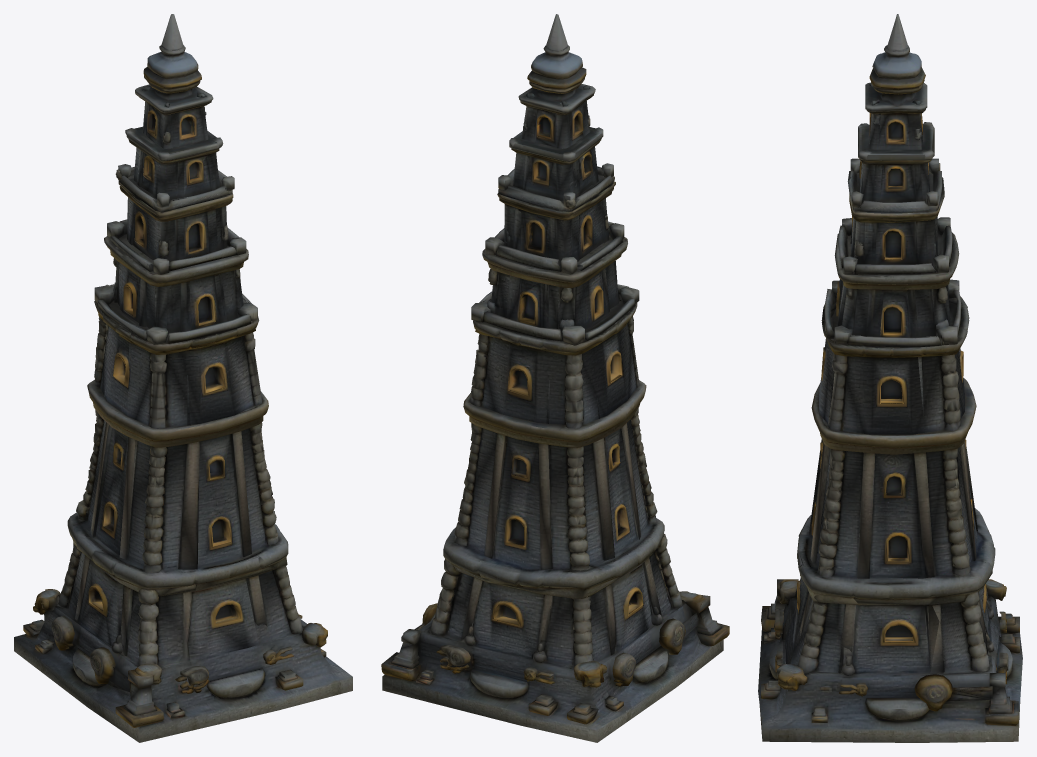
The model's file is ch7_city_of_echoes_tower_LOD0.glb.
3 views of the same model, side by side, from view 1: azimuth 30°, elevation 25°; view 2: azimuth 150°, elevation 25°; view 3: azimuth 270°, elevation 25° (orthographic). The views are drawn at different scales.
Visible parts, largest first — view 1: tripo_node_c2a44c5a-c4bc-4a38-bb47-af0087f2003a; view 2: tripo_node_c2a44c5a-c4bc-4a38-bb47-af0087f2003a; view 3: tripo_node_c2a44c5a-c4bc-4a38-bb47-af0087f2003a.
Boxes of the visible parts, left/top/right/bottom form: tripo_node_c2a44c5a-c4bc-4a38-bb47-af0087f2003a: left=14, top=14, right=352, bottom=742; tripo_node_c2a44c5a-c4bc-4a38-bb47-af0087f2003a: left=381, top=14, right=729, bottom=742; tripo_node_c2a44c5a-c4bc-4a38-bb47-af0087f2003a: left=758, top=14, right=1022, bottom=742.
Bounding box in the file's own units: 0.3574 × 0.998 × 0.3574.
Materials: 1 (1 with a texture image).
